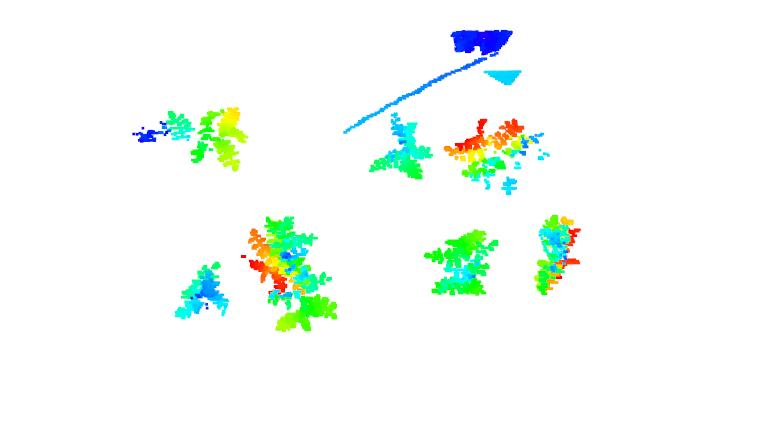chickpea: (245, 215, 341, 334), (447, 118, 551, 194), (163, 104, 251, 174), (424, 228, 503, 299), (367, 113, 433, 182), (531, 213, 582, 296), (170, 258, 231, 321)
